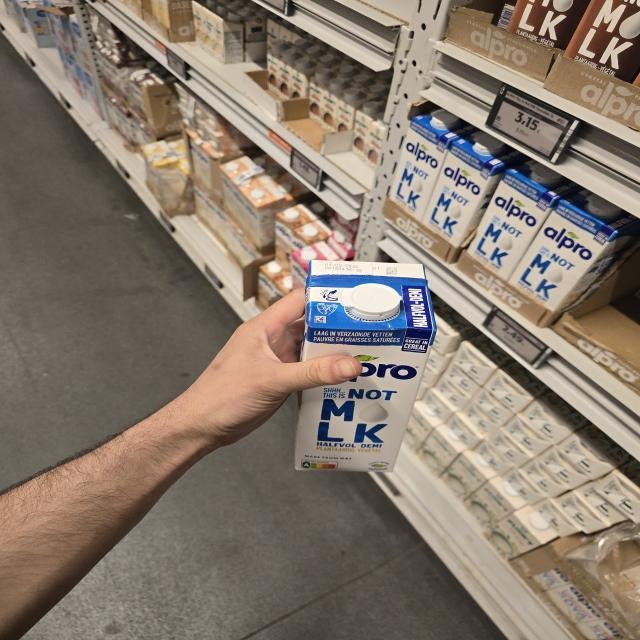Milk: (295, 259, 437, 473), (507, 189, 640, 311), (465, 159, 584, 281), (421, 130, 531, 248), (388, 106, 479, 223)
